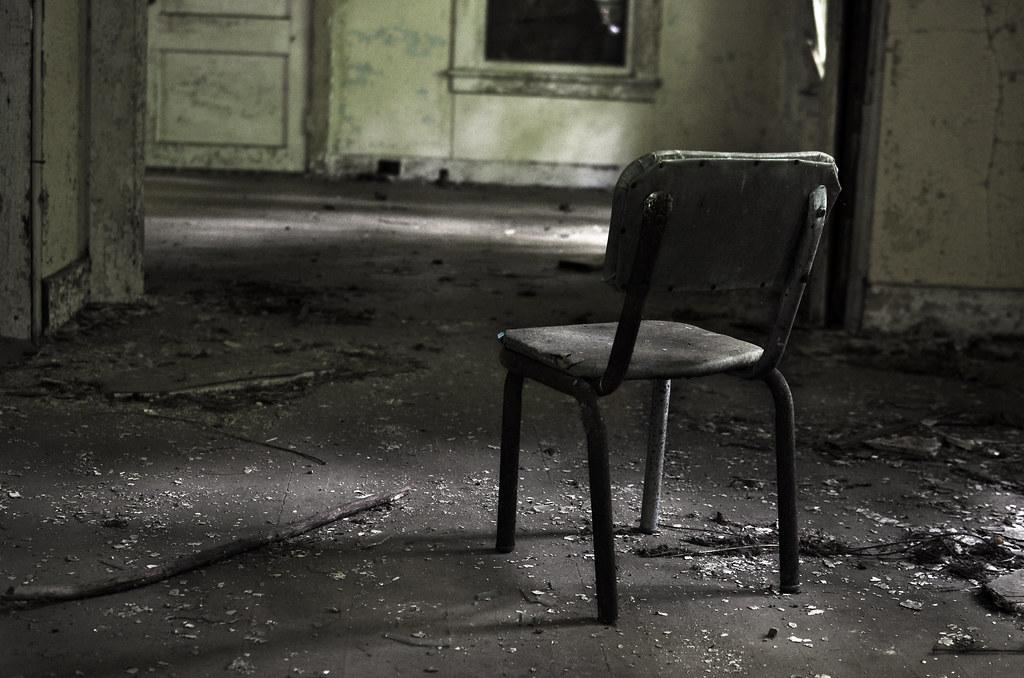chair: (494, 148, 843, 625)
